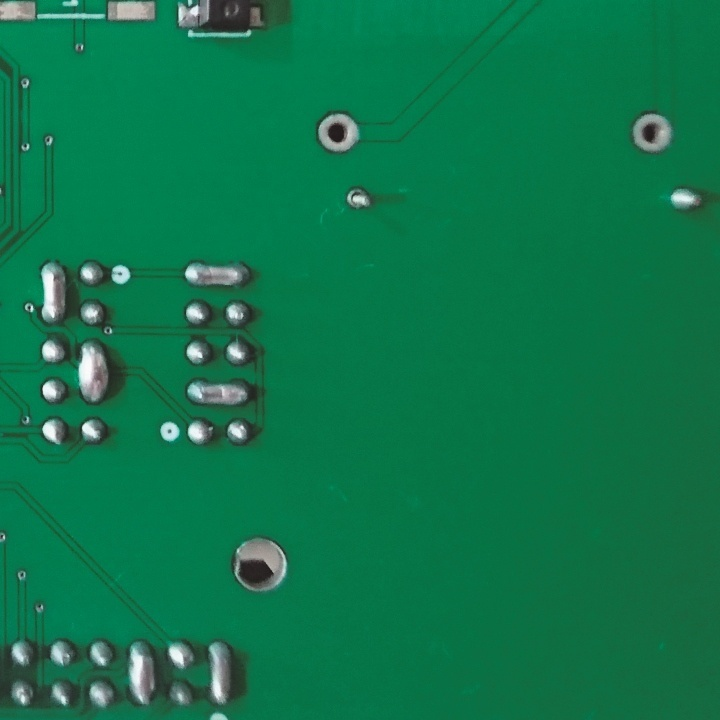F: (630, 109, 676, 158), (313, 111, 360, 154), (342, 184, 373, 212)
P: (181, 258, 251, 292), (79, 338, 111, 406), (127, 638, 158, 708), (184, 378, 254, 408), (204, 635, 233, 706), (38, 262, 70, 324)
